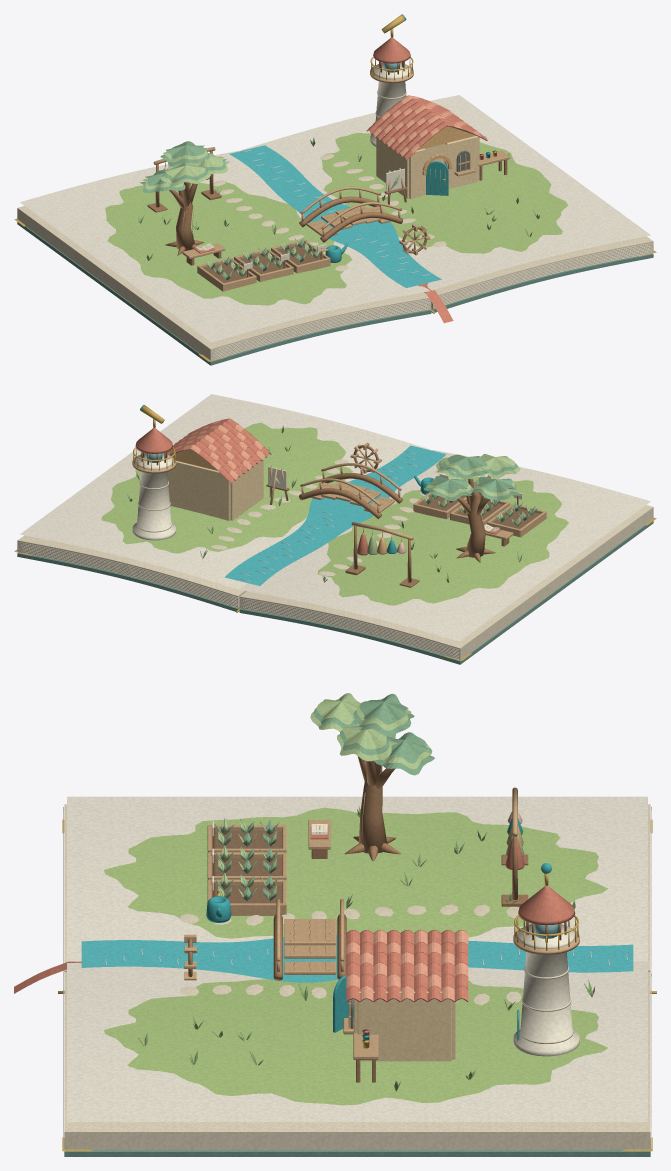
The model's file is book-world.glb.
The picture shows the model from 3 angles, top to bottom: view 1: azimuth 30°, elevation 25°; view 2: azimuth 150°, elevation 25°; view 3: azimuth 270°, elevation 25°; orthographic projection. The views are drawn at different scales.
Visible parts, largest first — view 1: NAV_PageSurface_L, Terrain_PaperMeadow_-1, NAV_PageSurface_R, Terrain_PaperMeadow_1, Book_Cover_Detail_Paper, Stream_Surface, Book_Cover_Detail_PageLight, Workshop_Shell_Detail_Wall, Book_Cover_Detail_Cover, Workshop_Shell_Detail_Coral, INT_StoryTree_Detail_Leaf, INT_StoryTree_Detail_LeafLight (+12 smaller); view 2: NAV_PageSurface_L, Terrain_PaperMeadow_-1, NAV_PageSurface_R, Book_Cover_Detail_Paper, Terrain_PaperMeadow_1, Stream_Surface, Workshop_Shell_Detail_Wall, Book_Cover_Detail_PageLight, Book_Cover_Detail_Cover, Observatory_Tower, Workshop_Shell_Detail_Coral, INT_StoryTree_Detail_Leaf (+13 smaller); view 3: NAV_PageSurface_R, Terrain_PaperMeadow_-1, Terrain_PaperMeadow_1, NAV_PageSurface_L, Book_Cover_Detail_Paper, Stream_Surface, Workshop_Shell_Detail_Coral, Workshop_Shell_Detail_Wall, Observatory_Tower, Book_Cover_Detail_Cover, INT_StoryTree_Detail_Leaf, Workshop_Shell_Detail_RoofLight (+18 smaller).
Part boxes in pixels (x1=…): NAV_PageSurface_L: x1=20, y1=150, x2=429, y2=342; Terrain_PaperMeadow_-1: x1=105, y1=182, x2=352, y2=305; NAV_PageSurface_R: x1=241, y1=95, x2=650, y2=290; Terrain_PaperMeadow_1: x1=321, y1=133, x2=568, y2=253; Book_Cover_Detail_Paper: x1=17, y1=206, x2=653, y2=360; Stream_Surface: x1=229, y1=145, x2=441, y2=287; Book_Cover_Detail_PageLight: x1=211, y1=243, x2=652, y2=360; Workshop_Shell_Detail_Wall: x1=376, y1=126, x2=479, y2=198; Book_Cover_Detail_Cover: x1=17, y1=222, x2=653, y2=365; Workshop_Shell_Detail_Coral: x1=367, y1=97, x2=487, y2=160; INT_StoryTree_Detail_Leaf: x1=140, y1=141, x2=226, y2=192; INT_StoryTree_Detail_LeafLight: x1=142, y1=148, x2=229, y2=189; NAV_PageSurface_L: x1=241, y1=450, x2=650, y2=641; Terrain_PaperMeadow_-1: x1=317, y1=476, x2=568, y2=605; NAV_PageSurface_R: x1=20, y1=394, x2=429, y2=589; Book_Cover_Detail_Paper: x1=17, y1=505, x2=653, y2=659; Terrain_PaperMeadow_1: x1=101, y1=422, x2=352, y2=553; Stream_Surface: x1=224, y1=445, x2=446, y2=585; Workshop_Shell_Detail_Wall: x1=167, y1=451, x2=263, y2=520; Book_Cover_Detail_PageLight: x1=18, y1=542, x2=459, y2=659; Book_Cover_Detail_Cover: x1=17, y1=521, x2=653, y2=664; Observatory_Tower: x1=132, y1=453, x2=175, y2=540; Workshop_Shell_Detail_Coral: x1=167, y1=418, x2=271, y2=483; INT_StoryTree_Detail_Leaf: x1=424, y1=454, x2=520, y2=500; NAV_PageSurface_R: x1=67, y1=963, x2=647, y2=1121; Terrain_PaperMeadow_-1: x1=104, y1=807, x2=608, y2=938; Terrain_PaperMeadow_1: x1=104, y1=979, x2=607, y2=1105; NAV_PageSurface_L: x1=67, y1=796, x2=647, y2=961; Book_Cover_Detail_Paper: x1=64, y1=804, x2=650, y2=1150; Stream_Surface: x1=81, y1=935, x2=633, y2=982; Workshop_Shell_Detail_Coral: x1=346, y1=930, x2=468, y2=1001; Workshop_Shell_Detail_Wall: x1=353, y1=991, x2=455, y2=1061; Observatory_Tower: x1=513, y1=924, x2=579, y2=1056; Book_Cover_Detail_Cover: x1=64, y1=1150, x2=650, y2=1156; INT_StoryTree_Detail_Leaf: x1=313, y1=693, x2=434, y2=775; Workshop_Shell_Detail_RoofLight: x1=346, y1=930, x2=468, y2=1001.
Bounding box in the file's own units: 24.9 × 8.02 × 20.4.
22 materials, 22 textured.
